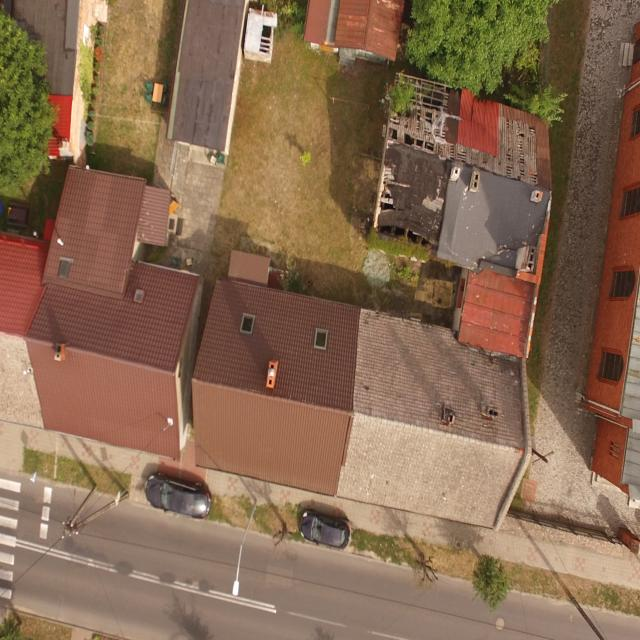cars: (148, 474, 213, 520), (301, 512, 350, 548)
houses: (187, 278, 537, 533), (26, 165, 207, 462), (164, 0, 249, 159)
trees: (416, 0, 560, 82), (0, 13, 44, 198)
